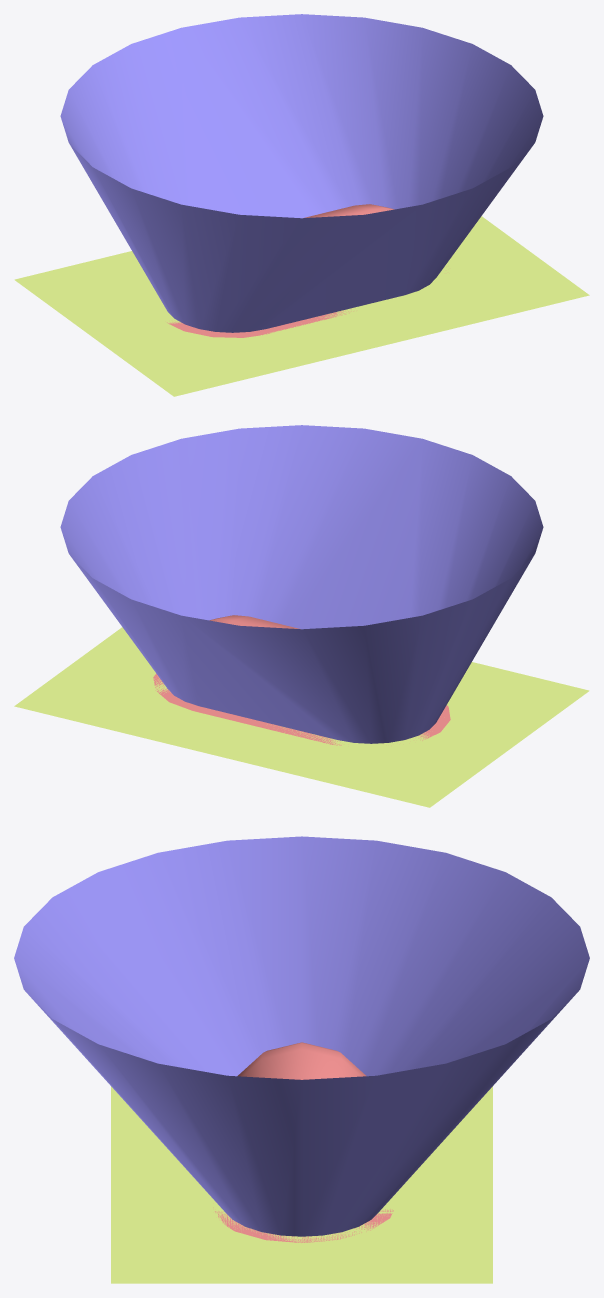
The model's file is Light_DengPian4_1X1_on.FBX.
The picture shows the model from 3 angles, top to bottom: view 1: azimuth 30°, elevation 25°; view 2: azimuth 150°, elevation 25°; view 3: azimuth 270°, elevation 25°; orthographic projection. The views are drawn at different scales.
Visible parts, largest first — view 1: Box002; view 2: Box002; view 3: Box002.
Part boxes in pixels (<box>): Box002: <box>14,14,589,396</box>; Box002: <box>14,425,589,807</box>; Box002: <box>14,836,589,1283</box>.
Size of the model in its own units: 1.51 by 0.6906 by 1.51.
